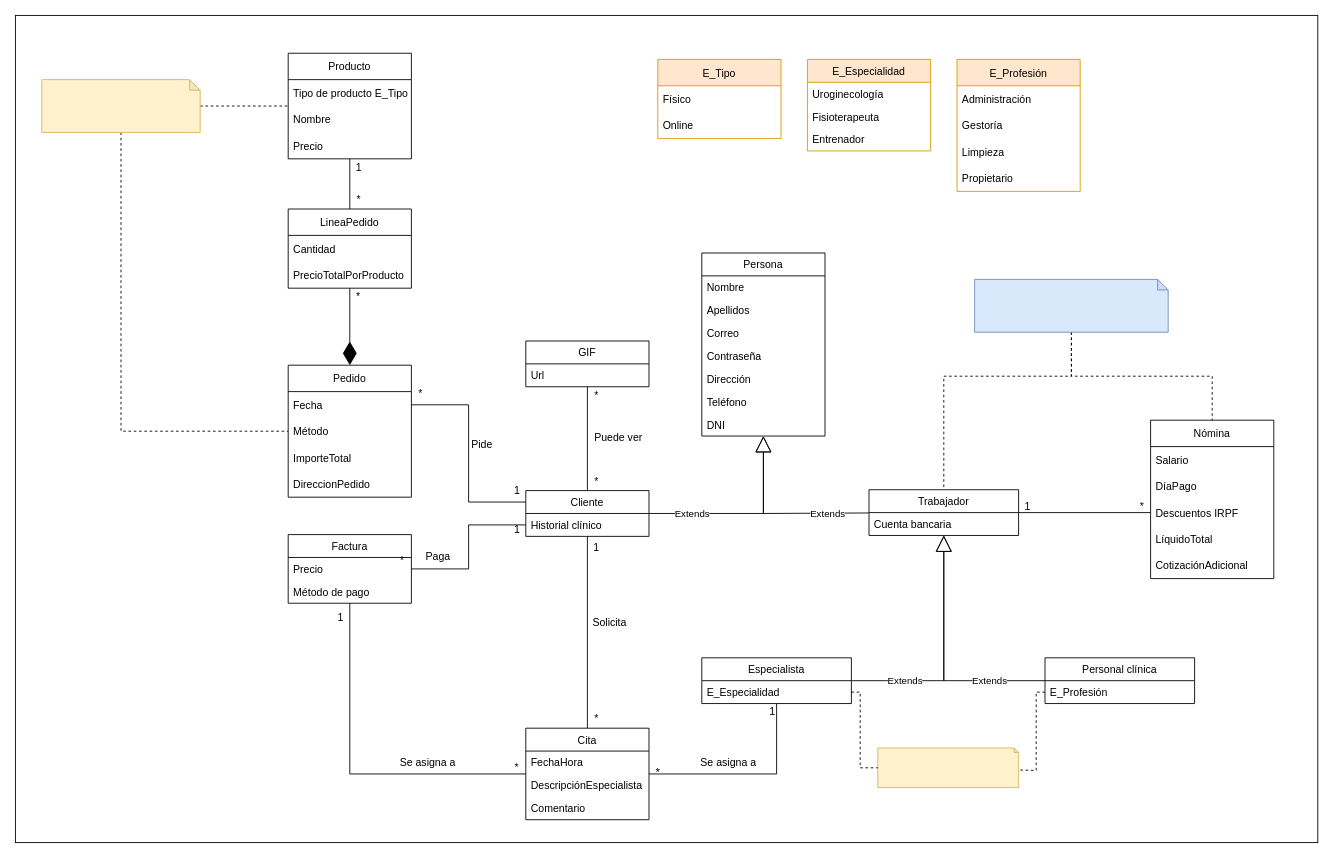
The diagram is 1333 pixels wide and 858 high, and some of its shapes have lost their labels. Here are the shapes that lost their labels. From the top down, the centre of each, then its label:
At (x=120, y=105): "La dirección solo es necesaria si en el pedido hay al menos un producto físico".
At (x=1071, y=305): "RN: Solo la gestoría puede crear las nóminas".
At (x=948, y=767): "El propietario puede ejercer como especialista".
